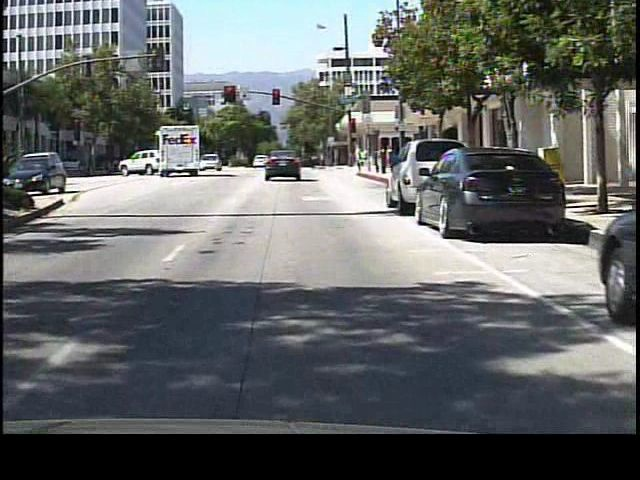person: (351, 146, 368, 179)
